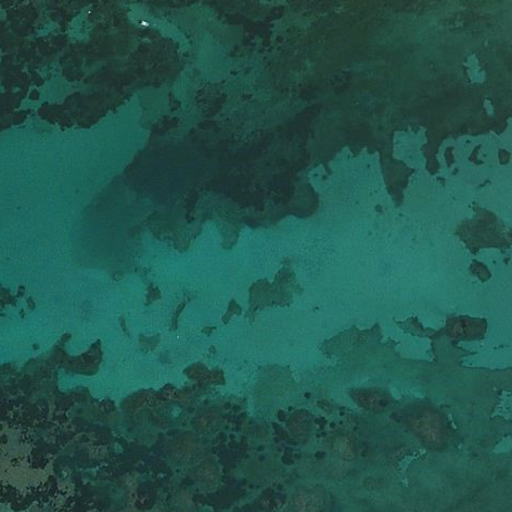ship: (136, 18, 150, 28)
